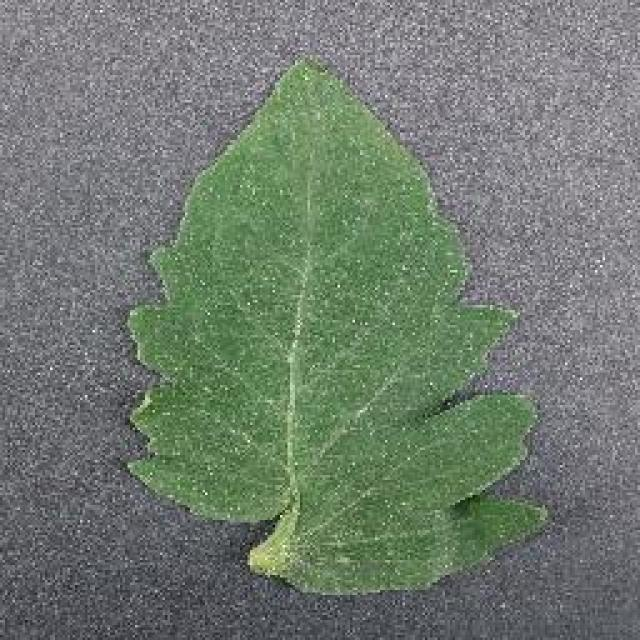Tomato_Healthy: (113, 51, 560, 587)
